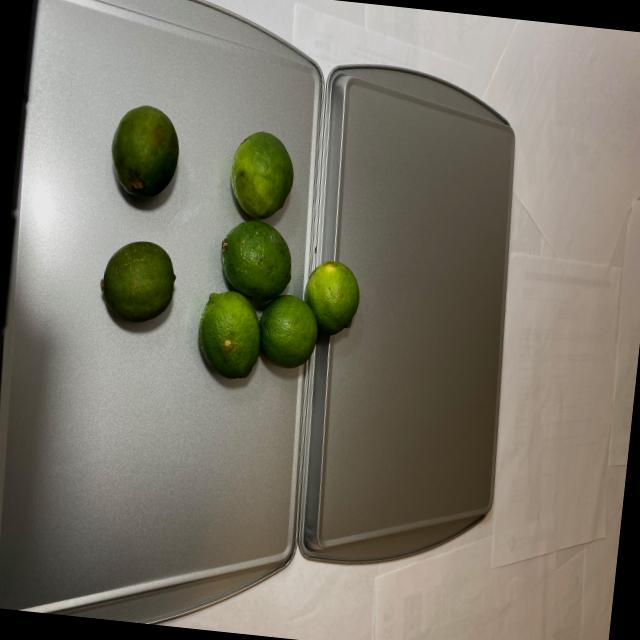lemon: (86, 90, 380, 392)
